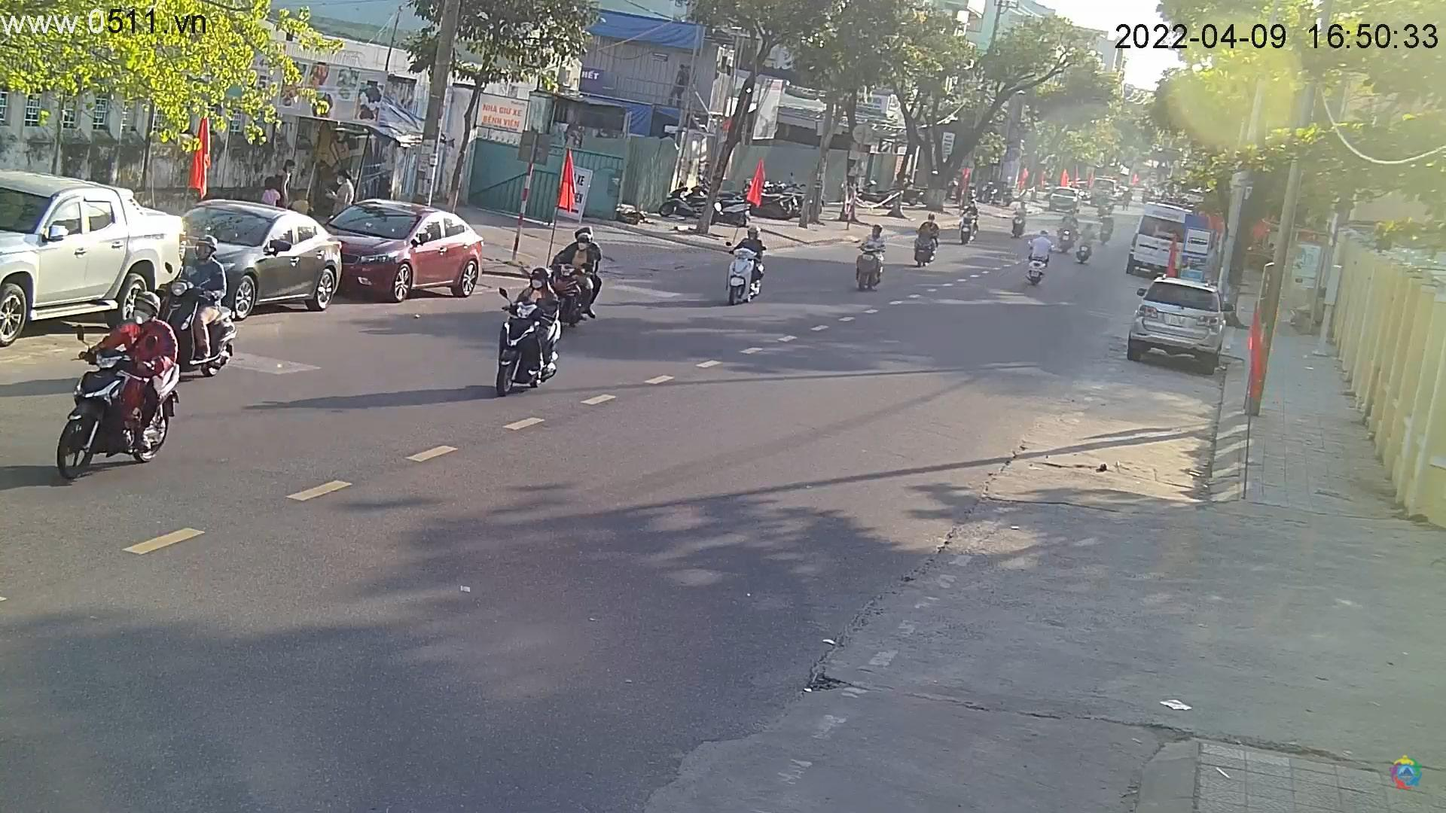car: (2, 170, 189, 351), (177, 202, 349, 316), (319, 196, 488, 304)
motorbike: (54, 312, 187, 483), (494, 292, 562, 393), (535, 239, 606, 333), (716, 238, 763, 305), (857, 239, 883, 289), (910, 228, 939, 270)
